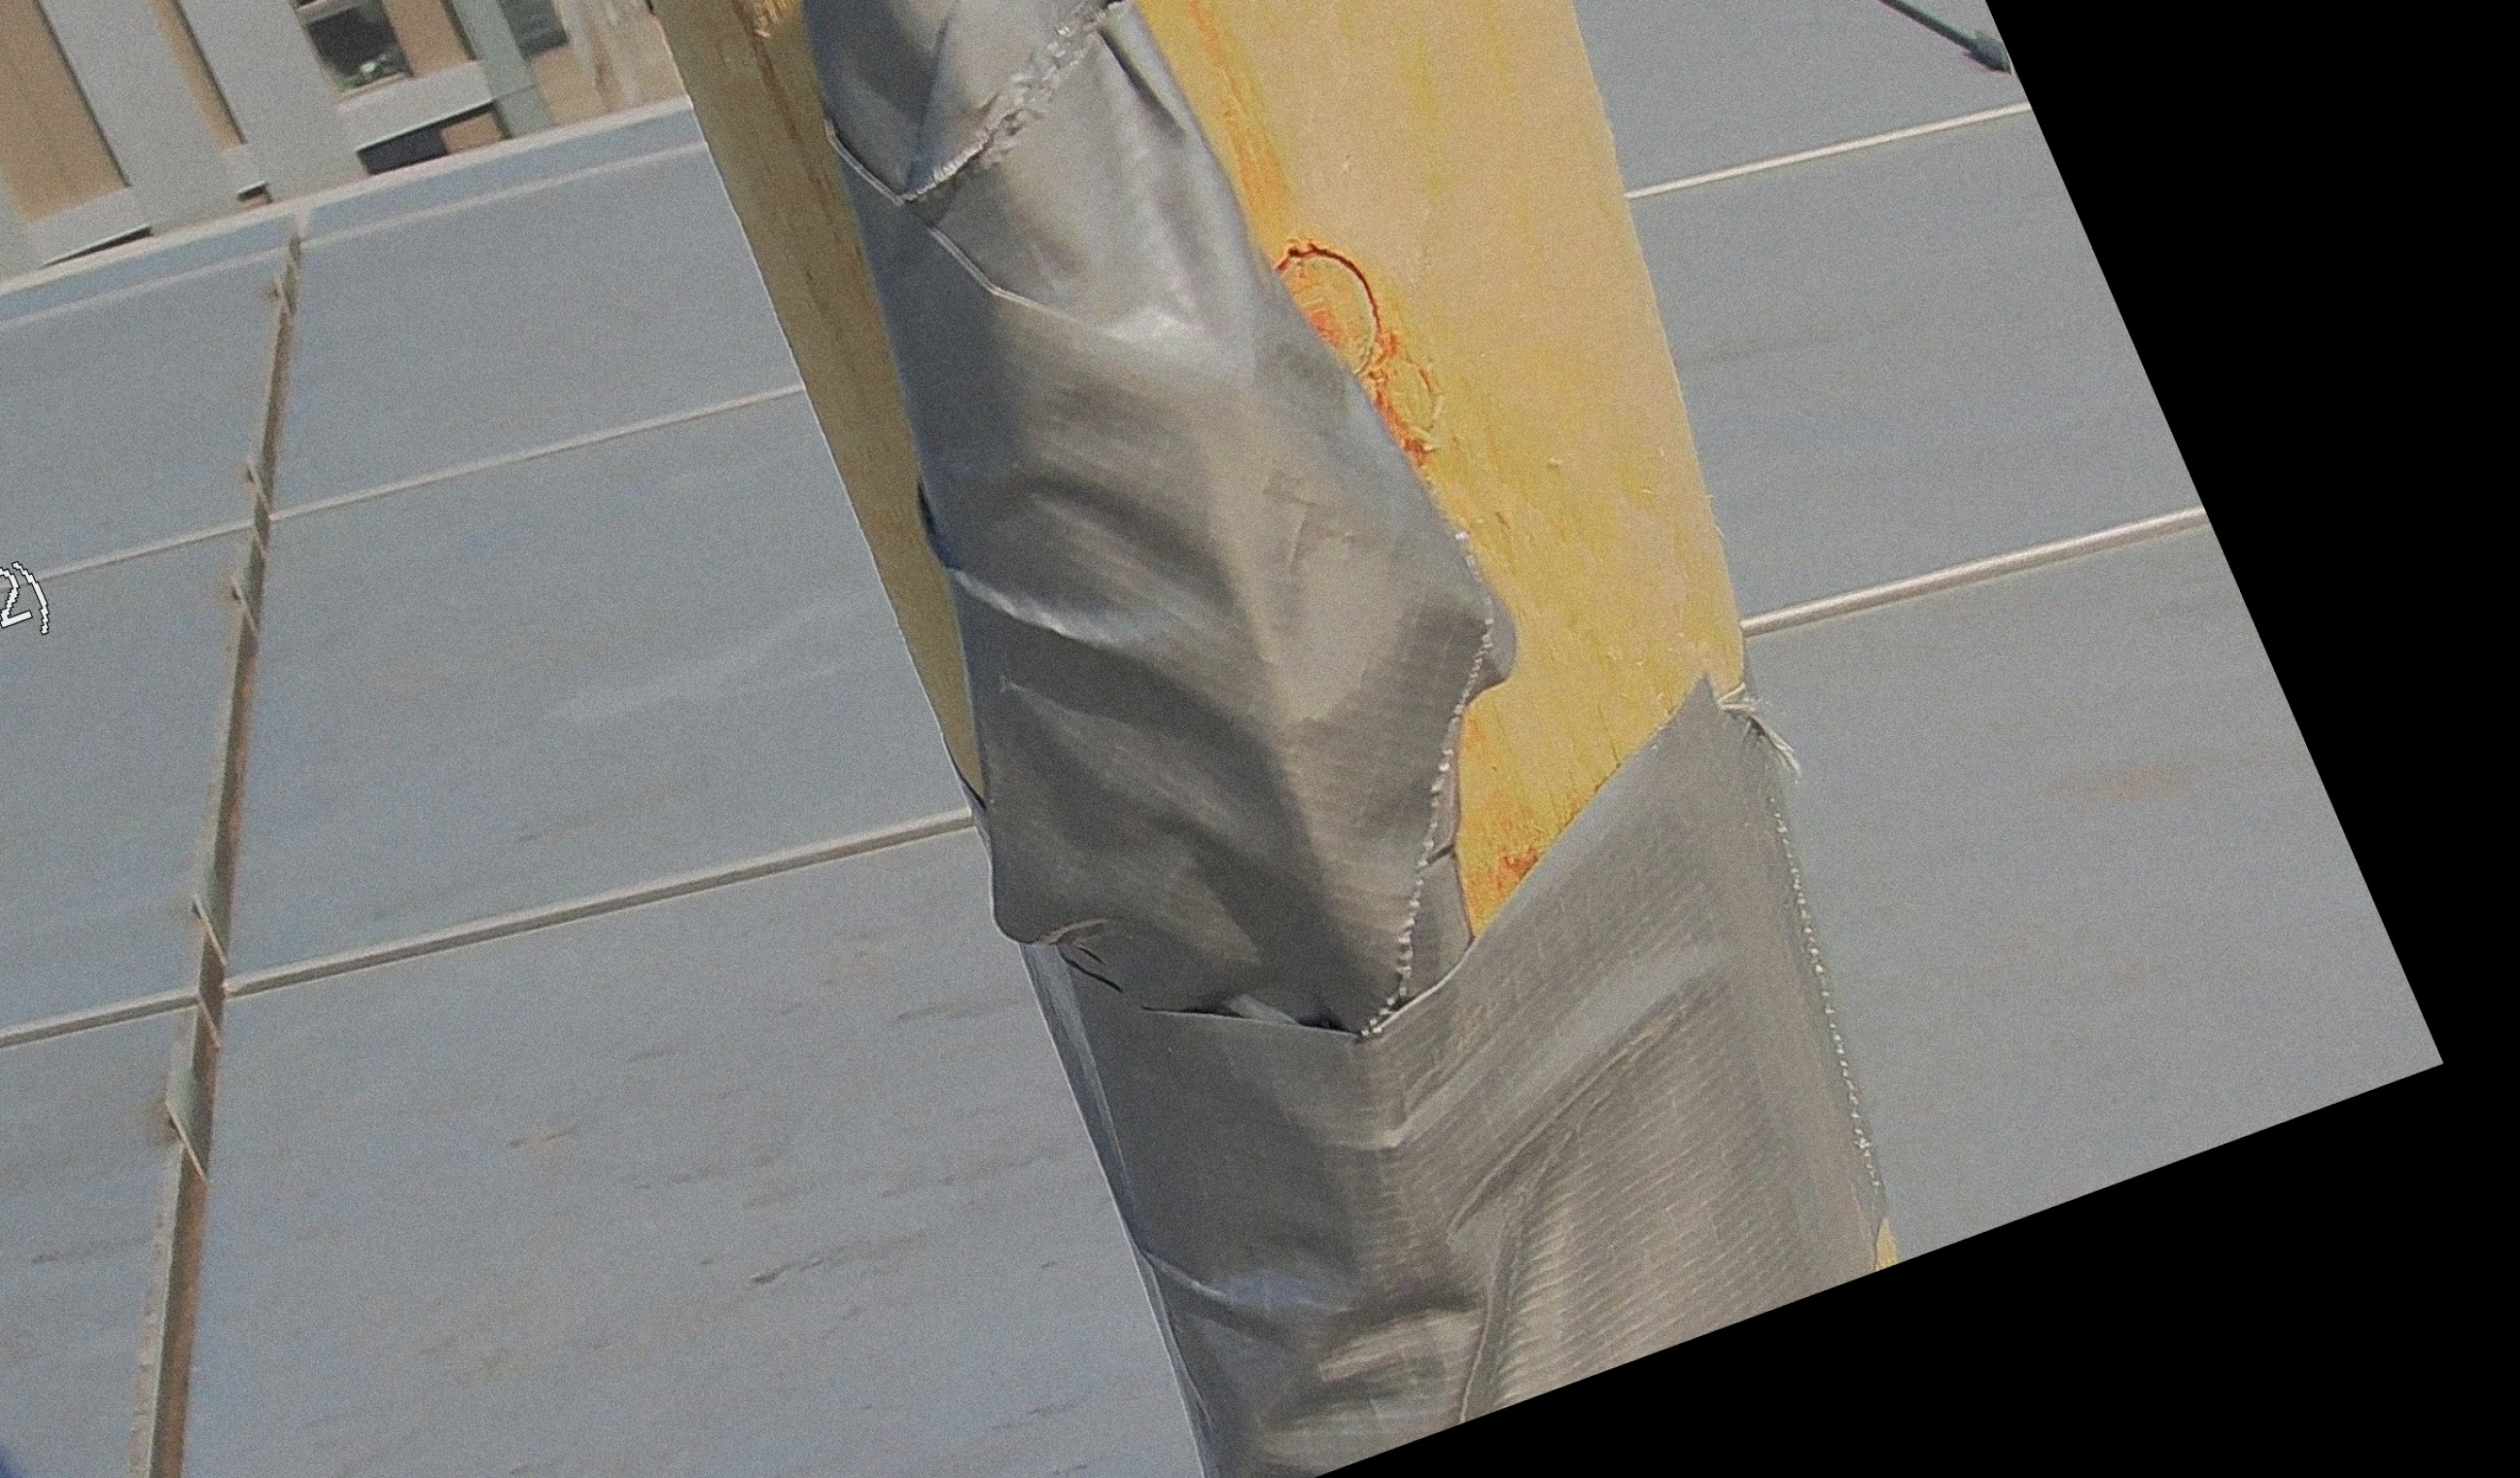Other: (522, 0, 1716, 1246)
